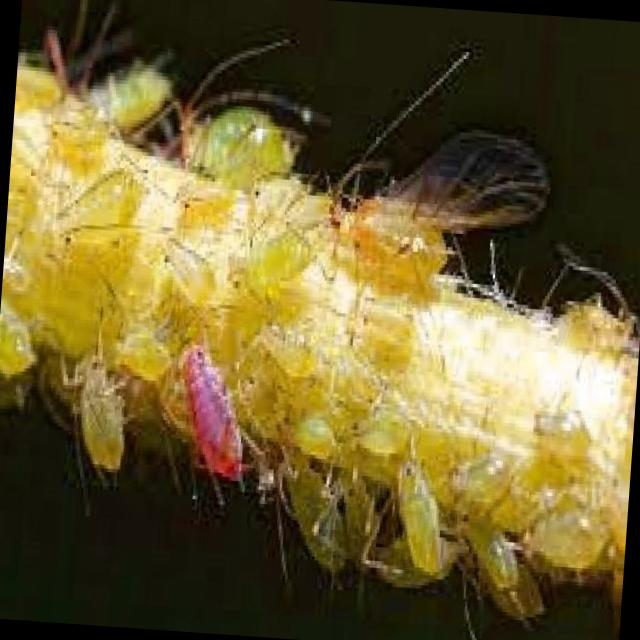aphid: (173, 31, 334, 188), (48, 35, 188, 172), (46, 312, 143, 508), (338, 178, 466, 312), (170, 340, 266, 500), (509, 482, 615, 582), (274, 456, 354, 588), (452, 497, 536, 615), (388, 453, 453, 599), (32, 233, 138, 310), (248, 298, 324, 394), (53, 163, 154, 232), (230, 230, 322, 300), (482, 554, 555, 636), (146, 235, 222, 307), (520, 400, 598, 464), (112, 324, 176, 396), (339, 404, 416, 462), (168, 170, 236, 229), (348, 302, 422, 354), (443, 456, 516, 504), (282, 404, 338, 466)
